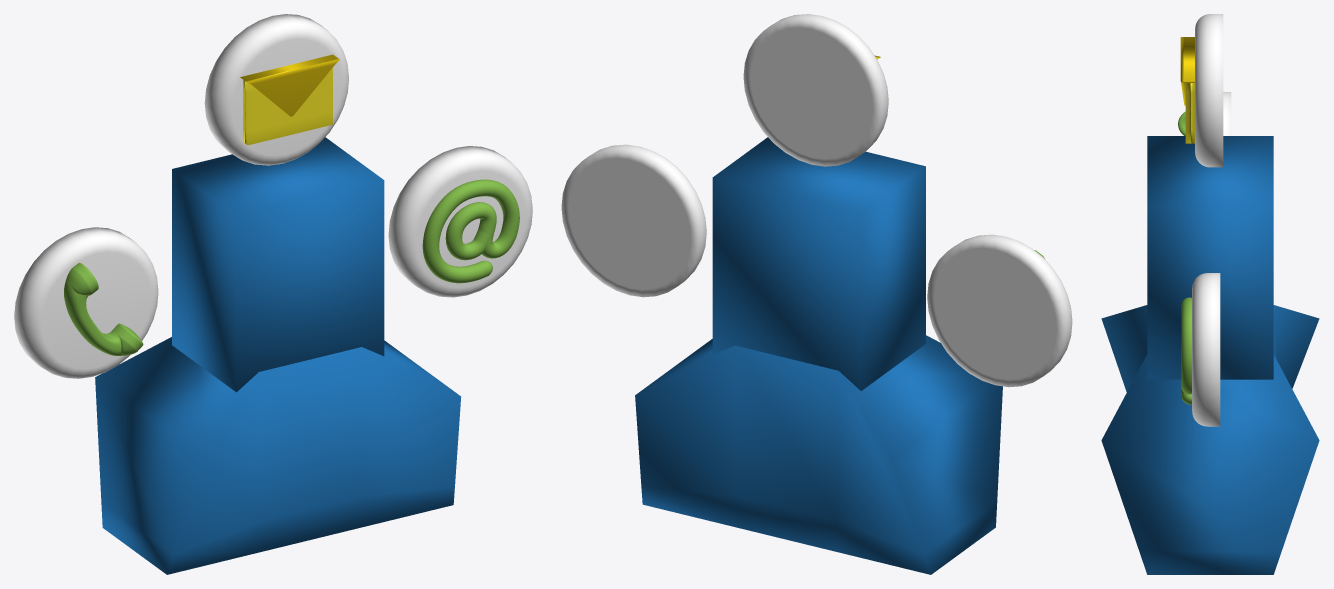
3 renders of one model, left to right at view 1: azimuth 30°, elevation 25°; view 2: azimuth 150°, elevation 25°; view 3: azimuth 270°, elevation 25°, orthographic. The views are drawn at different scales.
Visible parts, largest first — view 1: Cube.026, Cube.025, Cylinder.025, Cylinder.028, Cylinder.027, At Rate (1), Cube.087, Cylinder001, Cube.086; view 2: Cube.026, Cube.025, Cylinder.028, Cylinder.025, Cylinder.027; view 3: Cube.026, Cube.025, Cylinder.027, Cylinder.028, At Rate (1), Cube.086, Cube.087, Cylinder.025.
Part boxes in pixels (left/top/right/bottom): Cube.026: left=95, top=337, right=461, bottom=574; Cube.025: left=172, top=137, right=384, bottom=392; Cylinder.025: left=14, top=227, right=158, bottom=378; Cylinder.028: left=388, top=146, right=532, bottom=297; Cylinder.027: left=204, top=14, right=348, bottom=165; At Rate (1): left=422, top=179, right=519, bottom=283; Cube.087: left=243, top=67, right=332, bottom=145; Cylinder001: left=64, top=262, right=143, bottom=355; Cube.086: left=240, top=54, right=339, bottom=116; Cube.026: left=635, top=335, right=1002, bottom=574; Cube.025: left=712, top=137, right=925, bottom=390; Cylinder.028: left=561, top=144, right=706, bottom=297; Cylinder.025: left=927, top=234, right=1072, bottom=387; Cylinder.027: left=743, top=14, right=888, bottom=166; Cube.026: left=1101, top=305, right=1319, bottom=574; Cube.025: left=1147, top=136, right=1273, bottom=379; Cylinder.027: left=1195, top=14, right=1223, bottom=167; Cylinder.028: left=1192, top=273, right=1220, bottom=426; At Rate (1): left=1181, top=297, right=1191, bottom=404; Cube.086: left=1180, top=37, right=1194, bottom=105; Cube.087: left=1185, top=83, right=1194, bottom=143; Cylinder.025: left=1223, top=92, right=1231, bottom=135.
Size of the model in its own units: 11.78 by 11.06 by 4.5.
